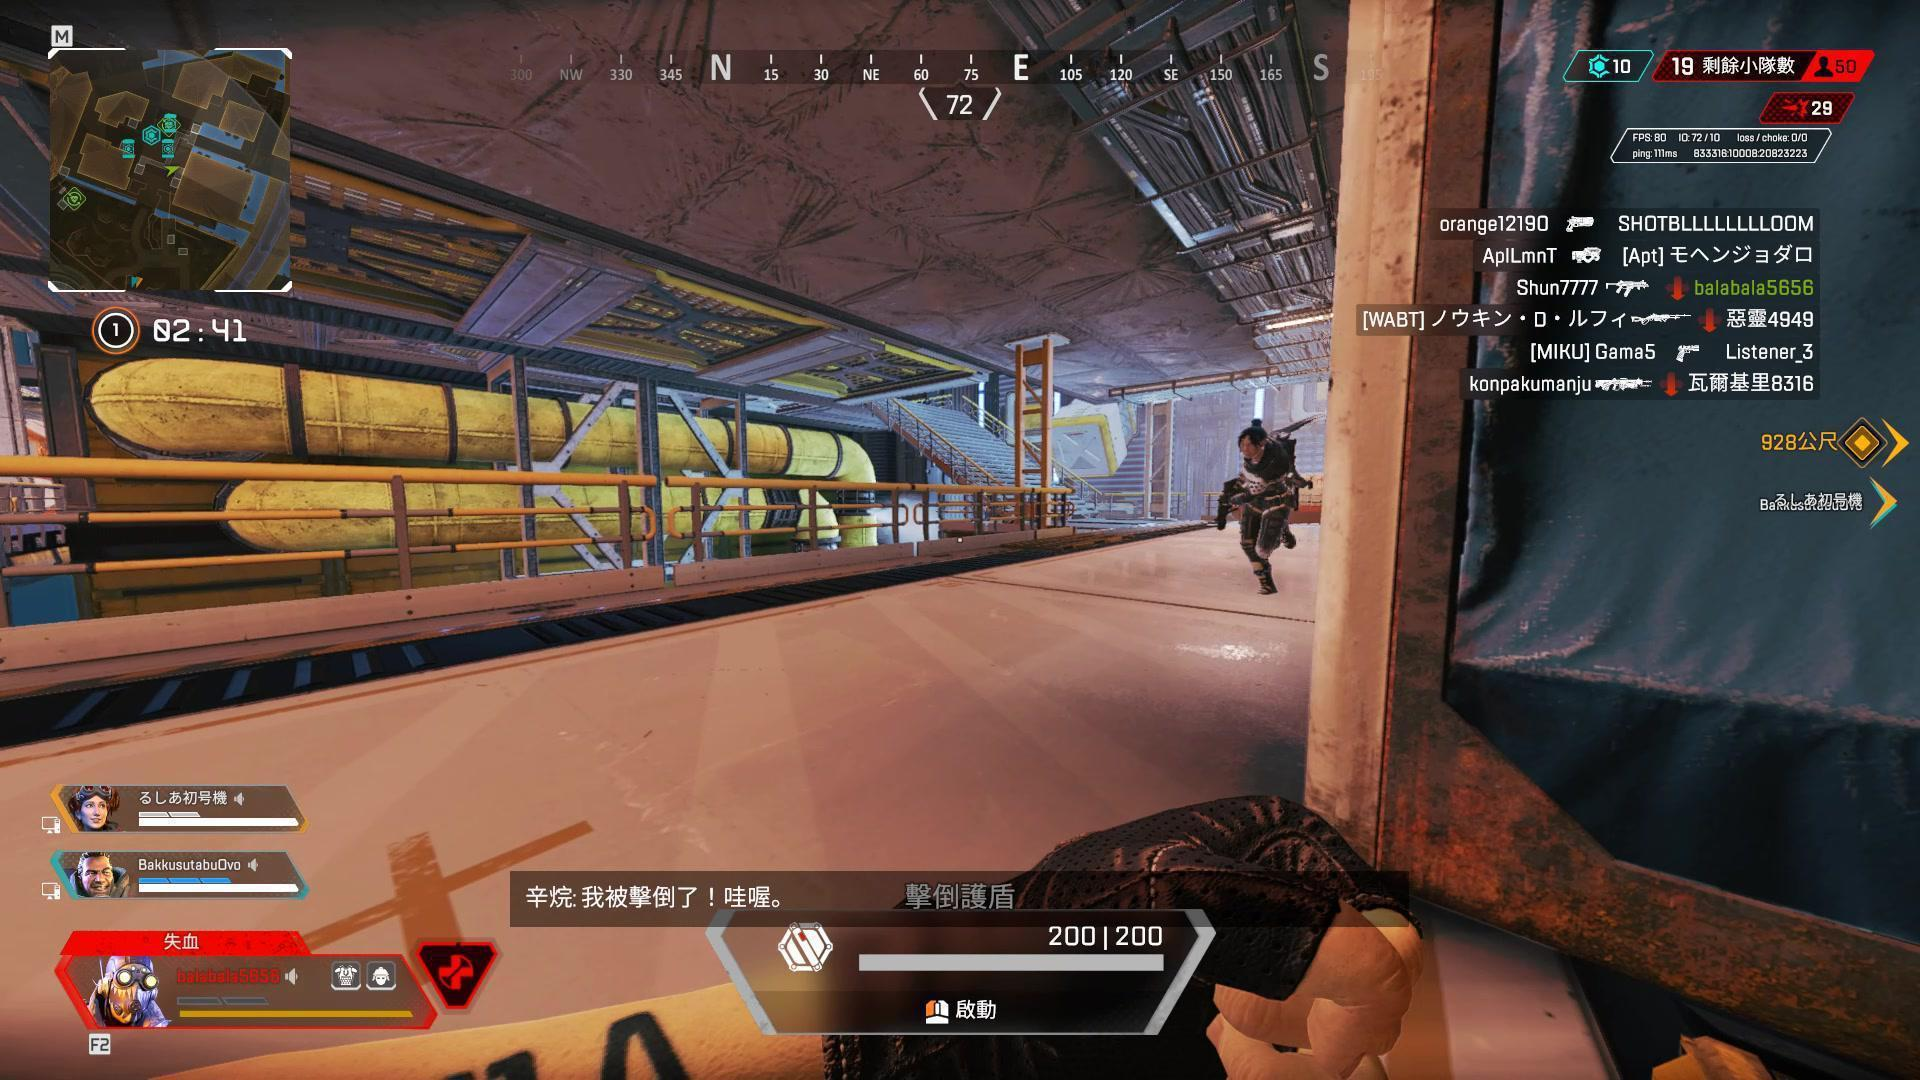avatar: (1222, 423, 1302, 599)
